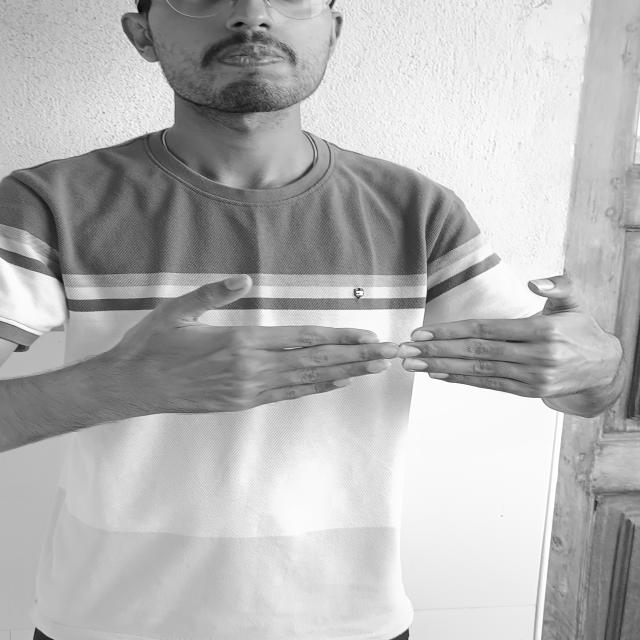Night: (100, 232, 617, 448)
